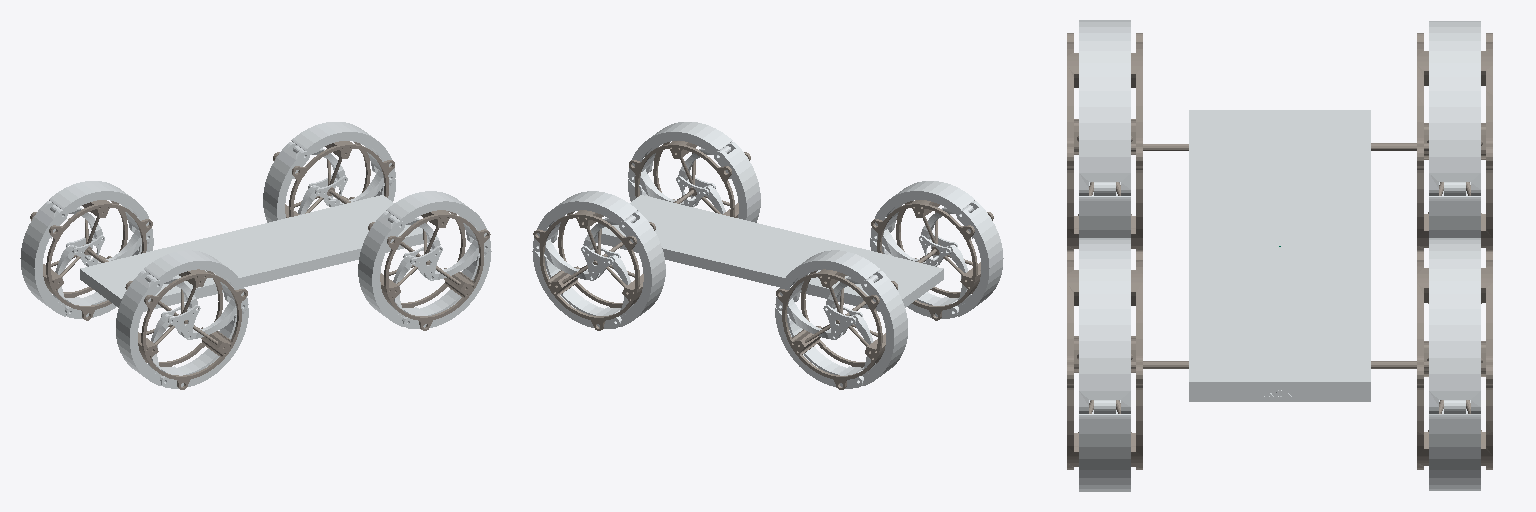
--- Facts derived from the render (not from the file) ---
Views: 3 orthographic renders of the robot side by side, from view 1: azimuth 30°, elevation 25°; view 2: azimuth 150°, elevation 25°; view 3: azimuth 270°, elevation 25°.
Model tryd with 35 links and 34 joints (32 revolute, 2 fixed), rooted at base_footprint, posed every joint at zero.
Links seen in each view (by area): view 1: base_link, l2_rh, l2_rf, l2_lh, l4_rf1, l4_rh1, l4_lh1, l2_lf, l4_lf3, l4_rh3, l4_rf3, l4_lh3 (+8 smaller); view 2: base_link, l2_lf, l2_lh, l2_rh, l4_lf1, l4_rh1, l4_lh1, l2_rf, l4_lh3, l4_rf3, l4_lf3, l4_rh3 (+9 smaller); view 3: base_link, l4_rf3, l4_lf3, l4_rh3, l4_lh3, l2_rf, l2_lf, l2_lh, l2_rh, l4_rf2, l4_lf2, l4_rh2 (+1 smaller).
Boxes of the visible links, x1,y1,x2,y2 form: base_link: (80, 195, 428, 311); l2_rh: (125, 269, 247, 389); l2_rf: (368, 210, 490, 330); l2_lh: (30, 200, 152, 320); l4_rf1: (358, 211, 404, 326); l4_rh1: (116, 270, 162, 385); l4_lh1: (20, 201, 67, 316); l2_lf: (273, 141, 394, 217); l4_lf3: (291, 122, 395, 182); l4_rh3: (144, 250, 248, 310); l4_rf3: (386, 191, 490, 251); l4_lh3: (49, 181, 152, 241); base_link: (595, 195, 943, 311); l2_lf: (533, 210, 655, 330); l2_lh: (776, 269, 897, 389); l2_rh: (871, 200, 993, 320); l4_lf1: (619, 211, 665, 326); l4_rh1: (956, 201, 1003, 316); l4_lh1: (861, 270, 907, 385); l2_rf: (629, 141, 750, 217); l4_lh3: (775, 250, 879, 310); l4_rf3: (628, 122, 732, 182); l4_lf3: (533, 191, 637, 251); l4_rh3: (871, 181, 974, 241); base_link: (1189, 110, 1370, 401); l4_rf3: (1079, 238, 1130, 413); l4_lf3: (1429, 238, 1480, 413); l4_rh3: (1079, 20, 1130, 195); l4_lh3: (1429, 21, 1480, 195); l2_rf: (1067, 251, 1188, 469); l2_lf: (1371, 251, 1492, 469); l2_lh: (1371, 33, 1492, 250); l2_rh: (1067, 33, 1188, 250); l4_rf2: (1079, 414, 1130, 491); l4_lf2: (1429, 414, 1480, 490); l4_rh2: (1079, 196, 1130, 237).
Bounding box of the posed robot: 0.7163 × 0.396 × 0.2362 m (x, y, z).
33 mesh visuals loaded from 33 distinct referenced files (33 binary STL).

robot.urdf — tryd:
<?xml version="1.0" encoding="utf-8"?>
<!-- This URDF was automatically created by SolidWorks to URDF Exporter! Originally created by Stephen Brawner ([email redacted]) 
     Commit Version: 1.6.0-4-g7f85cfe  Build Version: 1.6.7995.38578
     For more information, please see http://wiki.ros.org/sw_urdf_exporter -->
<robot name="tryd">
  <link name="base_footprint"/>

  <link name="base_link">
    <inertial>
      <origin xyz="-8.94907244384436E-06 1.56777004396414E-08 -0.0099999786979822" rpy="0 0 0" />
      <mass value="5.51387120943428" />
      <inertia ixx="0.0134468927294375" ixy="-2.59140603594283E-08" ixz="-3.51546984955843E-08" iyy="0.165475287417608" iyz="-1.62022466077164E-11" izz="0.178554327537039" />
    </inertial>
    <visual>
      <origin xyz="0 0 0" rpy="0 0 0" />
      <geometry>
        <mesh filename="package://tryd/meshes/base_link.STL" />
      </geometry>
      <material name="">
        <color rgba="0.898039215686275 0.917647058823529 0.929411764705882 1" />
      </material>
    </visual>
    <collision>
      <origin xyz="0 0 0" rpy="0 0 0" />
      <geometry>
        <mesh filename="package://tryd/meshes/base_link.STL" />
      </geometry>
    </collision>
  </link>
  <joint name="base_joint" type="fixed">
    <parent link="base_footprint"/>
    <child link="base_link"/>
    <axis xyz="0 0 0"/>
    <origin xyz="0 0 0" rpy="0 0 0"/>
  </joint>
  
  <!-- RTF -->  
  <link name="l2_rf">
    <inertial>
      <origin xyz="-2.08804529222562E-10 -0.0291950635463956 2.32404020325735E-11" rpy="0 0 0" />
      <mass value="0.196608556113688" />
      <inertia ixx="0.000799" ixy="0.000000" ixz="0.000000" iyy="0.001288" iyz="0.000000" izz="0.000799" />
    </inertial>
    <visual>
      <origin xyz="0 0 0" rpy="0 0 0" />
      <geometry>
        <mesh filename="package://tryd/meshes/l2_rf.STL" />
      </geometry>
      <material name="">
        <color rgba="0.650980392156863 0.619607843137255 0.588235294117647 1" />
      </material>
    </visual>
    <collision>
      <origin xyz="0 0 0" rpy="0 0 0" />
      <geometry>
        <mesh filename="package://tryd/meshes/l2_rf.STL" />
      </geometry>
    </collision>
  </link>

  <joint name="j2_rf" type="revolute">
    <origin xyz="0.239999999999999 -0.128 -0.0100000000000003" rpy="0 0 0" />
    <parent link="base_link" />
    <child link="l2_rf" />
    <axis xyz="0 1 0" />
    <limit lower="-50" upper="50" effort="100" velocity="50" />
  </joint>

  <link name="l1_rf">
    <inertial>
      <origin xyz="-4.9960036108132E-16 -0.0161380765502627 -2.57744127660233E-16" rpy="0 0 0" />
      <mass value="0.0354240975198173" />
      <inertia ixx="0.000012" ixy="0.000000" ixz="0.000000" iyy="0.000015" iyz="0.000000" izz="0.000012" />
    </inertial>
    <visual>
      <origin xyz="0 0 0" rpy="0 0 0" />
      <geometry>
        <mesh filename="package://tryd/meshes/l1_rf.STL" />
      </geometry>
      <material name="">
        <color rgba="0.898039215686275 0.917647058823529 0.929411764705882 1" />
      </material>
    </visual>
    <collision>
      <origin xyz="0 0 0" rpy="0 0 0" />
      <geometry>
        <mesh filename="package://tryd/meshes/l1_rf.STL" />
      </geometry>
    </collision>
  </link>
  <joint name="j1_rf" type="revolute">
    <origin xyz="0 -0.021 0" rpy="0 0 0" />
    <parent link="l2_rf" />
    <child link="l1_rf" />
    <axis xyz="0 1 0" />
    <limit lower="-1" upper="1" effort="100" velocity="50" />
  </joint>

  <link name="l3_rf1">
    <inertial>
      <origin xyz="-0.0398905245666624 -0.0140000194157354 0.0482877588732501" rpy="0 0 0" />
      <mass value="0.0557316685279916" />
      <inertia ixx="0.000029" ixy="0.000000" ixz="-0.000032" iyy="0.000071" iyz="0.000000" izz="0.000044" />
    </inertial>
    <visual>
      <origin xyz="0 0 0" rpy="0 0 0" />
      <geometry>
        <mesh filename="package://tryd/meshes/l3_rf1.STL" />
      </geometry>
      <material name="">
        <color rgba="0.898039215686275 0.917647058823529 0.929411764705882 1" />
      </material>
    </visual>
    <collision>
      <origin xyz="0 0 0" rpy="0 0 0" />
      <geometry>
        <mesh filename="package://tryd/meshes/l3_rf1.STL" />
      </geometry>
    </collision>
  </link>
  <joint name="j3_rf1" type="revolute">
    <origin xyz="0.022146669767068 0 0.0202367244935637" rpy="0 0 0" />
    <parent link="l1_rf" />
    <child link="l3_rf1" />
    <axis xyz="0 1 0" />
    <limit lower="-1.57" upper="1.57" effort="5" velocity="2" />
  </joint>

  <link name="l3_rf2">
    <inertial>
      <origin xyz="-0.0218731622438092 -0.0140000036638266 -0.0586901178612239" rpy="0 0 0" />
      <mass value="0.0557315697331534" />
      <inertia ixx="0.000068" ixy="0.000000" ixz="0.000009" iyy="0.000071" iyz="0.000000" izz="0.000006" />
    </inertial>
    <visual>
      <origin xyz="0 0 0" rpy="0 0 0" />
      <geometry>
        <mesh filename="package://tryd/meshes/l3_rf2.STL" />
      </geometry>
      <material name="">
        <color rgba="0.898039215686275 0.917647058823529 0.929411764705882 1" />
      </material>
    </visual>
    <collision>
      <origin xyz="0 0 0" rpy="0 0 0" />
      <geometry>
        <mesh filename="package://tryd/meshes/l3_rf2.STL" />
      </geometry>
    </collision>
  </link>
  <joint name="j3_rf2" type="revolute">
    <origin xyz="-0.0285988523843481 0 0.00906121638072432" rpy="0 0 0" />
    <parent link="l1_rf" />
    <child link="l3_rf2" />
    <axis xyz="0 1 0" />
    <limit lower="-1.57" upper="1.57" effort="5" velocity="2" />
  </joint>
  
  <link name="l3_rf3">
    <inertial>
      <origin xyz="0.0617637116997839 -0.0140000031232566 0.0104023387554542" rpy="0 0 0" />
      <mass value="0.0557315625814883" />
      <inertia ixx="0.000013" ixy="0.000000" ixz="0.000022" iyy="0.000071" iyz="0.000000" izz="0.000061" />
    </inertial>
    <visual>
      <origin xyz="0 0 0" rpy="0 0 0" />
      <geometry>
        <mesh filename="package://tryd/meshes/l3_rf3.STL" />
      </geometry>
      <material name="">
        <color rgba="0.898039215686275 0.917647058823529 0.929411764705882 1" />
      </material>
    </visual>
    <collision>
      <origin xyz="0 0 0" rpy="0 0 0" />
      <geometry>
        <mesh filename="package://tryd/meshes/l3_rf3.STL" />
      </geometry>
    </collision>
  </link>
  <joint name="j3_rf3" type="revolute">
    <origin xyz="0.00645218261727812 0 -0.0292979408742882" rpy="0 0 0" />
    <parent link="l1_rf" />
    <child link="l3_rf3" />
    <axis xyz="0 1 0" />
    <limit lower="-1.57" upper="1.57" effort="5" velocity="2" />
  </joint>

  <link name="l4_rf1">
    <inertial>
      <origin xyz="-0.00925877524108323 -0.0350000059049338 -0.0714258099295615" rpy="0 0 0" />
      <mass value="0.505772953738006" />
      <inertia ixx="0.001678" ixy="0.000000" ixz="-0.000035" iyy="0.001703" iyz="0.000000" izz="0.000215" />
    </inertial>
    <visual>
      <origin xyz="0 0 0" rpy="0 0 0" />
      <geometry>
        <mesh filename="package://tryd/meshes/l4_rf1.STL" />
      </geometry>
      <material name="">
        <color rgba="0.898039215686275 0.917647058823529 0.929411764705882 1" />
      </material>
    </visual>
    <collision>
      <origin xyz="0 0 0" rpy="0 0 0" />
      <geometry>
        <mesh filename="package://tryd/meshes/l4_rf1.STL" />
      </geometry>
    </collision>
  </link>
  <joint name="j4_rf1" type="revolute">
    <origin xyz="-0.0833137378878261 0 0.0687227842797317" rpy="0 0 0" />
    <parent link="l2_rf" />
    <child link="l4_rf1" />
    <axis xyz="0 1 0" />
    <limit lower="-1.57" upper="1.57" effort="5" velocity="2" />
  </joint>

  <link name="l4_rf2">
    <inertial>
      <origin xyz="0.0664859496958133 -0.0350000060684984 0.0276945733610566" rpy="0 0 0" />
      <mass value="0.505772947420474" />
      <inertia ixx="0.000611" ixy="0.000000" ixz="0.000651" iyy="0.001703" iyz="0.000000" izz="0.001282" />
    </inertial>
    <visual>
      <origin xyz="0 0 0" rpy="0 0 0" />
      <geometry>
        <mesh filename="package://tryd/meshes/l4_rf2.STL" />
      </geometry>
      <material name="">
        <color rgba="0.898039215686275 0.917647058823529 0.929411764705882 1" />
      </material>
    </visual>
    <collision>
      <origin xyz="0 0 0" rpy="0 0 0" />
      <geometry>
        <mesh filename="package://tryd/meshes/l4_rf2.STL" />
      </geometry>
    </collision>
  </link>
  <joint name="j4_rf2" type="revolute">
    <origin xyz="-0.0178588080611313 0 -0.106513205634962" rpy="0 0 0" />
    <parent link="l2_rf" />
    <child link="l4_rf2" />
    <axis xyz="0 1 0" />
    <limit lower="-1.57" upper="1.57" effort="5" velocity="2" />
  </joint>

  <link name="l4_rf3">
    <inertial>
      <origin xyz="-0.0572271801527385 -0.0350000060490628 0.0437312355375022" rpy="0 0 0" />
      <mass value="0.505772946196365" />
      <inertia ixx="0.000551" ixy="0.000000" ixz="-0.000616" iyy="0.001703" iyz="0.000000" izz="0.001342" />
    </inertial>
    <visual>
      <origin xyz="0 0 0" rpy="0 0 0" />
      <geometry>
        <mesh filename="package://tryd/meshes/l4_rf3.STL" />
      </geometry>
      <material name="">
        <color rgba="0.898039215686275 0.917647058823529 0.929411764705882 1" />
      </material>
    </visual>
    <collision>
      <origin xyz="0 0 0" rpy="0 0 0" />
      <geometry>
        <mesh filename="package://tryd/meshes/l4_rf3.STL" />
      </geometry>
    </collision>
  </link>
  <joint name="j4_rf3" type="revolute">
    <origin xyz="0.101172545948959 0 0.0377904213552305" rpy="0 0 0" />
    <parent link="l2_rf" />
    <child link="l4_rf3" />
    <axis xyz="0 1 0" />
    <limit lower="-1.57" upper="1.57" effort="5" velocity="2" />
  </joint>

  <!-- LTF --> 
  <link name="l2_lf">
    <inertial>
      <origin xyz="-6.09346184621273E-11 0.0291950636027025 2.85822192691364E-10" rpy="0 0 0" />
      <mass value="0.196608558229839" />
      <inertia ixx="0.000799" ixy="0.000000" ixz="0.000000" iyy="0.001288" iyz="0.000000" izz="0.000799" />
    </inertial>
    <visual>
      <origin xyz="0 0 0" rpy="0 0 0" />
      <geometry>
        <mesh filename="package://tryd/meshes/l2_lf.STL" />
      </geometry>
      <material name="">
        <color rgba="0.650980392156863 0.619607843137255 0.588235294117647 1" />
      </material>
    </visual>
    <collision>
      <origin xyz="0 0 0" rpy="0 0 0" />
      <geometry>
        <mesh filename="package://tryd/meshes/l2_lf.STL" />
      </geometry>
    </collision>
  </link>
  <joint name="j2_lf" type="revolute">
    <origin xyz="0.239999999999999 0.128 -0.0100000000000002" rpy="0 0 0" />
    <parent link="base_link" />
    <child link="l2_lf" />
    <axis xyz="0 1 0" />
    <limit lower="-50" upper="50" effort="100" velocity="50" />
  </joint>

  <link name="l1_lf">
    <inertial>
      <origin xyz="-2.22044604925031E-16 0.0161380765502627 -4.56316275036442E-16" rpy="0 0 0" />
      <mass value="0.0354240975198172" />
      <inertia ixx="0.000012" ixy="0.000000" ixz="0.000000" iyy="0.000015" iyz="0.000000" izz="0.000012" />
    </inertial>
    <visual>
      <origin xyz="0 0 0" rpy="0 0 0" />
      <geometry>
        <mesh filename="package://tryd/meshes/l1_lf.STL" />
      </geometry>
      <material name="">
        <color rgba="0.898039215686275 0.917647058823529 0.929411764705882 1" />
      </material>
    </visual>
    <collision>
      <origin xyz="0 0 0" rpy="0 0 0" />
      <geometry>
        <mesh filename="package://tryd/meshes/l1_lf.STL" />
      </geometry>
    </collision>
  </link>
  <joint name="j1_lf" type="revolute">
    <origin xyz="0 0.021 0" rpy="0 0 0" />
    <parent link="l2_lf" />
    <child link="l1_lf" />
    <axis xyz="0 1 0" />
    <limit lower="-1" upper="1" effort="100" velocity="50" />
  </joint>

  <link name="l3_lf1">
    <inertial>
      <origin xyz="-0.039890520885456 0.0139999805842647 0.0482877619143034" rpy="0 0 0" />
      <mass value="0.0557316685279918" />
      <inertia ixx="0.000029" ixy="0.000000" ixz="-0.000032" iyy="0.000071" iyz="0.000000" izz="0.000044" />
    </inertial>
    <visual>
      <origin xyz="0 0 0" rpy="0 0 0" />
      <geometry>
        <mesh filename="package://tryd/meshes/l3_lf1.STL" />
      </geometry>
      <material name="">
        <color rgba="0.898039215686275 0.917647058823529 0.929411764705882 1" />
      </material>
    </visual>
    <collision>
      <origin xyz="0 0 0" rpy="0 0 0" />
      <geometry>
        <mesh filename="package://tryd/meshes/l3_lf1.STL" />
      </geometry>
    </collision>
  </link>
  <joint name="j3_lf1" type="revolute">
    <origin xyz="0.0221395963706941 0 0.0202444627625115" rpy="0 0 0" />
    <parent link="l1_lf" />
    <child link="l3_lf1" />
    <axis xyz="0 1 0" />
    <limit lower="-1.57" upper="1.57" effort="5" velocity="2" />
  </joint>

  <link name="l3_lf2">
    <inertial>
      <origin xyz="-0.0218731667180357 0.0139999963361724 -0.0586901161937509" rpy="0 0 0" />
      <mass value="0.0557315697331413" />
      <inertia ixx="0.000068" ixy="0.000000" ixz="0.000009" iyy="0.000071" iyz="0.000000" izz="0.000006" />
    </inertial>
    <visual>
      <origin xyz="0 0 0" rpy="0 0 0" />
      <geometry>
        <mesh filename="package://tryd/meshes/l3_lf2.STL" />
      </geometry>
      <material name="">
        <color rgba="0.898039215686275 0.917647058823529 0.929411764705882 1" />
      </material>
    </visual>
    <collision>
      <origin xyz="0 0 0" rpy="0 0 0" />
      <geometry>
        <mesh filename="package://tryd/meshes/l3_lf2.STL" />
      </geometry>
    </collision>
  </link>
  <joint name="j3_lf2" type="revolute">
    <origin xyz="-0.0286020172236509 0 0.00905122150529837" rpy="0 0 0" />
    <parent link="l1_lf" />
    <child link="l3_lf2" />
    <axis xyz="0 1 0" />
    <limit lower="-1.57" upper="1.57" effort="5" velocity="2" />
  </joint>

  <link name="l3_lf3">
    <inertial>
      <origin xyz="0.0617637124928111 0.0139999968767433 0.0104023340469134" rpy="0 0 0" />
      <mass value="0.0557315625814885" />
      <inertia ixx="0.000013" ixy="0.000000" ixz="0.000022" iyy="0.000071" iyz="0.000000" izz="0.000061" />
    </inertial>
    <visual>
      <origin xyz="0 0 0" rpy="0 0 0" />
      <geometry>
        <mesh filename="package://tryd/meshes/l3_lf3.STL" />
      </geometry>
      <material name="">
        <color rgba="0.898039215686275 0.917647058823529 0.929411764705882 1" />
      </material>
    </visual>
    <collision>
      <origin xyz="0 0 0" rpy="0 0 0" />
      <geometry>
        <mesh filename="package://tryd/meshes/l3_lf3.STL" />
      </geometry>
    </collision>
  </link>
  <joint name="j3_lf3" type="revolute">
    <origin xyz="0.00646242085295634 0 -0.0292956842678118" rpy="0 0 0" />
    <parent link="l1_lf" />
    <child link="l3_lf3" />
    <axis xyz="0 1 0" />
    <limit lower="-1.57" upper="1.57" effort="5" velocity="2" />
  </joint>

  <link name="l4_lf1">
    <inertial>
      <origin xyz="-0.00923381104475832 0.034999994095162 -0.0714290415484533" rpy="0 0 0" />
      <mass value="0.505772953745336" />
      <inertia ixx="0.001678" ixy="0.000000" ixz="-0.000035" iyy="0.001703" iyz="0.000000" izz="0.000215" />
    </inertial>
    <visual>
      <origin xyz="0 0 0" rpy="0 0 0" />
      <geometry>
        <mesh filename="package://tryd/meshes/l4_lf1.STL" />
      </geometry>
      <material name="">
        <color rgba="0.898039215686275 0.917647058823529 0.929411764705882 1" />
      </material>
    </visual>
    <collision>
      <origin xyz="0 0 0" rpy="0 0 0" />
      <geometry>
        <mesh filename="package://tryd/meshes/l4_lf1.STL" />
      </geometry>
    </collision>
  </link>
  <joint name="j4_lf1" type="revolute">
    <origin xyz="-0.0833137378878259 0 0.068722784279732" rpy="0 0 0" />
    <parent link="l2_lf" />
    <child link="l4_lf1" />
    <axis xyz="0 1 0" />
    <limit lower="-1.57" upper="1.57" effort="5" velocity="2" />
  </joint>
  
  <link name="l4_lf2">
    <inertial>
      <origin xyz="0.0664762662590837 0.0349999939314377 0.0277178088028784" rpy="0 0 0" />
      <mass value="0.505772947416741" />
      <inertia ixx="0.000611" ixy="0.000000" ixz="0.000651" iyy="0.001703" iyz="0.000000" izz="0.001282" />
    </inertial>
    <visual>
      <origin xyz="0 0 0" rpy="0 0 0" />
      <geometry>
        <mesh filename="package://tryd/meshes/l4_lf2.STL" />
      </geometry>
      <material name="">
        <color rgba="0.898039215686275 0.917647058823529 0.929411764705882 1" />
      </material>
    </visual>
    <collision>
      <origin xyz="0 0 0" rpy="0 0 0" />
      <geometry>
        <mesh filename="package://tryd/meshes/l4_lf2.STL" />
      </geometry>
    </collision>
  </link>
  <joint name="j4_lf2" type="revolute">
    <origin xyz="-0.0178588080611317 0 -0.106513205634961" rpy="0 0 0" />
    <parent link="l2_lf" />
    <child link="l4_lf2" />
    <axis xyz="0 1 0" />
    <limit lower="-1.57" upper="1.57" effort="5" velocity="2" />
  </joint>

  <link name="l4_lf3">
    <inertial>
      <origin xyz="-0.0572424609164388 0.0349999939510116 0.0437112317178428" rpy="0 0 0" />
      <mass value="0.505772946198787" />
      <inertia ixx="0.000551" ixy="0.000000" ixz="-0.000616" iyy="0.001703" iyz="0.000000" izz="0.001342" />
    </inertial>
    <visual>
      <origin xyz="0 0 0" rpy="0 0 0" />
      <geometry>
        <mesh filename="package://tryd/meshes/l4_lf3.STL" />
      </geometry>
      <material name="">
        <color rgba="0.898039215686275 0.917647058823529 0.929411764705882 1" />
      </material>
    </visual>
    <collision>
      <origin xyz="0 0 0" rpy="0 0 0" />
      <geometry>
        <mesh filename="package://tryd/meshes/l4_lf3.STL" />
      </geometry>
    </collision>
  </link>
  <joint name="j4_lf3" type="revolute">
    <origin xyz="0.101172545948959 0 0.0377904213552303" rpy="0 0 0" />
    <parent link="l2_lf" />
    <child link="l4_lf3" />
    <axis xyz="0 1 0" />
    <limit lower="-1.57" upper="1.57" effort="5" velocity="2" />
  </joint>

  <!-- RTH --> 
  <link name="l2_rh">
    <inertial>
      <origin xyz="-3.36830535685451E-10 -0.0291950635763487 4.28708644196799E-11" rpy="0 0 0" />
      <mass value="0.196608557895127" />
      <inertia ixx="0.000799" ixy="0.000000" ixz="0.000000" iyy="0.001288" iyz="0.000000" izz="0.000799" />
    </inertial>
    <visual>
      <origin xyz="0 0 0" rpy="0 0 0" />
      <geometry>
        <mesh filename="package://tryd/meshes/l2_rh.STL" />
      </geometry>
      <material name="">
        <color rgba="0.650980392156863 0.619607843137255 0.588235294117647 1" />
      </material>
    </visual>
    <collision>
      <origin xyz="0 0 0" rpy="0 0 0" />
      <geometry>
        <mesh filename="package://tryd/meshes/l2_rh.STL" />
      </geometry>
    </collision>
  </link>
  <joint name="j2_rh" type="revolute">
    <origin xyz="-0.24 -0.128 -0.0100000000000005" rpy="0 0 0" />
    <parent link="base_link" />
    <child link="l2_rh" />
    <axis xyz="0 1 0" />
    <limit lower="-50" upper="50" effort="100" velocity="50" />
  </joint>

  <link name="l1_rh">
    <inertial>
      <origin xyz="3.33066907387547E-16 -0.0161380765502627 -2.59802701229211E-16" rpy="0 0 0" />
      <mass value="0.0354240975198172" />
      <inertia ixx="0.000012" ixy="0.000000" ixz="0.000000" iyy="0.000015" iyz="0.000000" izz="0.000012" />
    </inertial>
    <visual>
      <origin xyz="0 0 0" rpy="0 0 0" />
      <geometry>
        <mesh filename="package://tryd/meshes/l1_rh.STL" />
      </geometry>
      <material name="">
        <color rgba="0.898039215686275 0.917647058823529 0.929411764705882 1" />
      </material>
    </visual>
    <collision>
      <origin xyz="0 0 0" rpy="0 0 0" />
      <geometry>
        <mesh filename="package://tryd/meshes/l1_rh.STL" />
      </geometry>
    </collision>
  </link>
  <joint name="j1_rh" type="revolute">
    <origin xyz="0 -0.021 0" rpy="0 0 0" />
    <parent link="l2_rh" />
    <child link="l1_rh" />
    <axis xyz="0 1 0" />
    <limit lower="-1" upper="1" effort="100" velocity="50" />
  </joint>

  <link name="l3_rh1">
    <inertial>
      <origin xyz="-0.0398905245666619 -0.0140000194157354 0.0482877588732504" rpy="0 0 0" />
      <mass value="0.0557316685279918" />
      <inertia ixx="0.000029" ixy="0.000000" ixz="-0.000032" iyy="0.000071" iyz="0.000000" izz="0.000044" />
    </inertial>
    <visual>
      <origin xyz="0 0 0" rpy="0 0 0" />
      <geometry>
        <mesh filename="package://tryd/meshes/l3_rh1.STL" />
      </geometry>
      <material name="">
        <color rgba="0.898039215686275 0.917647058823529 0.929411764705882 1" />
      </material>
    </visual>
    <collision>
      <origin xyz="0 0 0" rpy="0 0 0" />
      <geometry>
        <mesh filename="package://tryd/meshes/l3_rh1.STL" />
      </geometry>
    </collision>
  </link>
  <joint name="j3_rh1" type="revolute">
    <origin xyz="0.0221466697670692 0 0.0202367244935632" rpy="0 0 0" />
    <parent link="l1_rh" />
    <child link="l3_rh1" />
    <axis xyz="0 1 0" />
    <limit lower="-1.57" upper="1.57" effort="5" velocity="2" />
  </joint>

  <link name="l3_rh2">
    <inertial>
      <origin xyz="-0.0218731622438033 -0.0140000036638276 -0.0586901178612386" rpy="0 0 0" />
      <mass value="0.0557315697331424" />
      <inertia ixx="0.000068" ixy="0.000000" ixz="0.000009" iyy="0.000071" iyz="0.000000" izz="0.000006" />
    </inertial>
    <visual>
      <origin xyz="0 0 0" rpy="0 0 0" />
      <geometry>
        <mesh filename="package://tryd/meshes/l3_rh2.STL" />
      </geometry>
      <material name="">
        <color rgba="0.898039215686275 0.917647058823529 0.929411764705882 1" />
      </material>
    </visual>
    <collision>
      <origin xyz="0 0 0" rpy="0 0 0" />
      <geometry>
        <mesh filename="package://tryd/meshes/l3_rh2.STL" />
      </geometry>
    </collision>
  </link>
  <joint name="j3_rh2" type="revolute">
    <origin xyz="-0.0285988523843469 0 0.00906121638072405" rpy="0 0 0" />
    <parent link="l1_rh" />
    <child link="l3_rh2" />
    <axis xyz="0 1 0" />
    <limit lower="-1.57" upper="1.57" effort="5" velocity="2" />
  </joint>

  <link name="l3_rh3">
    <inertial>
      <origin xyz="0.0617637116997811 -0.0140000031232566 0.0104023387554438" rpy="0 0 0" />
      <mass value="0.0557315625814886" />
      <inertia ixx="0.000013" ixy="0.000000" ixz="0.000022" iyy="0.000071" iyz="0.000000" izz="0.000061" />
    </inertial>
    <visual>
      <origin xyz="0 0 0" rpy="0 0 0" />
      <geometry>
        <mesh filename="package://tryd/meshes/l3_rh3.STL" />
      </geometry>
      <material name="">
        <color rgba="0.898039215686275 0.917647058823529 0.929411764705882 1" />
      </material>
    </visual>
    <collision>
      <origin xyz="0 0 0" rpy="0 0 0" />
      <geometry>
        <mesh filename="package://tryd/meshes/l3_rh3.STL" />
      </geometry>
    </collision>
  </link>
  <joint name="j3_rh3" type="revolute">
    <origin xyz="0.00645218261727887 0 -0.0292979408742888" rpy="0 0 0" />
    <parent link="l1_rh" />
    <child link="l3_rh3" />
    <axis xyz="0 1 0" />
    <limit lower="-1.57" upper="1.57" effort="5" velocity="2" />
  </joint>

  <link name="l4_rh1">
    <inertial>
      <origin xyz="-0.00925877524108371 -0.0350000059049338 -0.0714258099295591" rpy="0 0 0" />
      <mass value="0.505772953738004" />
      <inertia ixx="0.001678" ixy="0.000000" ixz="-0.000035" iyy="0.001703" iyz="0.000000" izz="0.000215" />
    </inertial>
    <visual>
      <origin xyz="0 0 0" rpy="0 0 0" />
      <geometry>
        <mesh filename="package://tryd/meshes/l4_rh1.STL" />
      </geometry>
      <material name="">
        <color rgba="0.898039215686275 0.917647058823529 0.929411764705882 1" />
      </material>
    </visual>
    <collision>
      <origin xyz="0 0 0" rpy="0 0 0" />
      <geometry>
        <mesh filename="package://tryd/meshes/l4_rh1.STL" />
      </geometry>
    </collision>
  </link>
  <joint name="j4_rh1" type="revolute">
    <origin xyz="-0.0833137378878267 0 0.0687227842797326" rpy="0 0 0" />
    <parent link="l2_rh" />
    <child link="l4_rh1" />
    <axis xyz="0 1 0" />
    <limit lower="-1.57" upper="1.57" effort="5" velocity="2" />
  </joint>

  <link name="l4_rh2">
    <inertial>
      <origin xyz="0.0664859496958403 -0.0350000060684984 0.0276945733610724" rpy="0 0 0" />
      <mass value="0.505772947420472" />
      <inertia ixx="0.000611" ixy="0.000000" ixz="0.000651" iyy="0.001703" iyz="0.000000" izz="0.001282" />
    </inertial>
    <visual>
      <origin xyz="0 0 0" rpy="0 0 0" />
      <geometry>
        <mesh filename="package://tryd/meshes/l4_rh2.STL" />
      </geometry>
      <material name="">
        <color rgba="0.898039215686275 0.917647058823529 0.929411764705882 1" />
      </material>
    </visual>
    <collision>
      <origin xyz="0 0 0" rpy="0 0 0" />
      <geometry>
        <mesh filename="package://tryd/meshes/l4_rh2.STL" />
      </geometry>
    </collision>
  </link>
  <joint name="j4_rh2" type="revolute">
    <origin xyz="-0.0178588080611333 0 -0.106513205634961" rpy="0 0 0" />
    <parent link="l2_rh" />
    <child link="l4_rh2" />
    <axis xyz="0 1 0" />
    <limit lower="-1.57" upper="1.57" effort="5" velocity="2" />
  </joint>

  <link name="l4_rh3">
    <inertial>
      <origin xyz="-0.0572271801527114 -0.0350000060490628 0.0437312355374892" rpy="0 0 0" />
      <mass value="0.505772946196363" />
      <inertia ixx="0.000551" ixy="0.000000" ixz="-0.000616" iyy="0.001703" iyz="0.000000" izz="0.001342" />
    </inertial>
    <visual>
      <origin xyz="0 0 0" rpy="0 0 0" />
      <geometry>
        <mesh filename="package://tryd/meshes/l4_rh3.STL" />
      </geometry>
      <material name="">
        <color rgba="0.898039215686275 0.917647058823529 0.929411764705882 1" />
      </material>
    </visual>
    <collision>
      <origin xyz="0 0 0" rpy="0 0 0" />
      <geometry>
        <mesh filename="package://tryd/meshes/l4_rh3.STL" />
      </geometry>
    </collision>
  </link>
  <joint name="j4_rh3" type="revolute">
    <origin xyz="0.101172545948958 0 0.03779042135523" rpy="0 0 0" />
    <parent link="l2_rh" />
    <child link="l4_rh3" />
    <axis xyz="0 1 0" />
    <limit lower="-1.57" upper="1.57" effort="5" velocity="2" />
  </joint>

  <!-- LTH --> 
  <link name="l2_lh">
    <inertial>
      <origin xyz="-6.25409724008819E-11 0.0291950635841788 3.76880211515852E-10" rpy="0 0 0" />
      <mass value="0.196608558024231" />
      <inertia ixx="0.000799" ixy="0.000000" ixz="0.000000" iyy="0.001288" iyz="0.000000" izz="0.000799" />
    </inertial>
    <visual>
      <origin xyz="0 0 0" rpy="0 0 0" />
      <geometry>
        <mesh filename="package://tryd/meshes/l2_lh.STL" />
      </geometry>
      <material name="">
        <color rgba="0.650980392156863 0.619607843137255 0.588235294117647 1" />
      </material>
    </visual>
    <collision>
      <origin xyz="0 0 0" rpy="0 0 0" />
      <geometry>
        <mesh filename="package://tryd/meshes/l2_lh.STL" />
      </geometry>
    </collision>
  </link>
  <joint name="j2_lh" type="revolute">
    <origin xyz="-0.239999999999999 0.128 -0.0100000000000004" rpy="0 0 0" />
    <parent link="base_link" />
    <child link="l2_lh" />
    <axis xyz="0 1 0" />
    <limit lower="-50" upper="50" effort="100" velocity="50" />
  </joint>

  <link name="l1_lh">
    <inertial>
      <origin xyz="4.44089209850063E-16 0.0161380765502627 -4.43160424709541E-17" rpy="0 0 0" />
      <mass value="0.0354240975198174" />
      <inertia ixx="0.000012" ixy="0.000000" ixz="0.000000" iyy="0.000015" iyz="0.000000" izz="0.000012" />
    </inertial>
    <visual>
      <origin xyz="0 0 0" rpy="0 0 0" />
      <geometry>
        <mesh filename="package://tryd/meshes/l1_lh.STL" />
      </geometry>
      <material name="">
        <color rgba="0.898039215686275 0.917647058823529 0.929411764705882 1" />
      </material>
    </visual>
    <collision>
      <origin xyz="0 0 0" rpy="0 0 0" />
      <geometry>
        <mesh filename="package://tryd/meshes/l1_lh.STL" />
      </geometry>
    </collision>
  </link>
  <joint name="j1_lh" type="revolute">
    <origin xyz="0 0.021 0" rpy="0 0 0" />
    <parent link="l2_lh" />
    <child link="l1_lh" />
    <axis xyz="0 1 0" />
    <limit lower="-1" upper="1" effort="100" velocity="50" />
  </joint>

  <link name="l3_lh1">
    <inertial>
      <origin xyz="-0.0398905208854606 0.0139999805842646 0.0482877619143024" rpy="0 0 0" />
      <mass value="0.0557316685279916" />
      <inertia ixx="0.000029" ixy="0.000000" ixz="-0.000032" iyy="0.000071" iyz="0.000000" izz="0.000044" />
    </inertial>
    <visual>
      <origin xyz="0 0 0" rpy="0 0 0" />
      <geometry>
        <mesh filename="package://tryd/meshes/l3_lh1.STL" />
      </geometry>
      <material name="">
        <color rgba="0.898039215686275 0.917647058823529 0.929411764705882 1" />
      </material>
    </visual>
    <collision>
      <origin xyz="0 0 0" rpy="0 0 0" />
      <geometry>
        <mesh filename="package://tryd/meshes/l3_lh1.STL" />
      </geometry>
    </collision>
  </link>
  <joint name="j3_lh3" type="revolute">
    <origin xyz="0.0221395963706951 0 0.0202444627625122" rpy="0 0 0" />
    <parent link="l1_lh" />
    <child link="l3_lh1" />
    <axis xyz="0 1 0" />
    <limit lower="-1.57" upper="1.57" effort="5" velocity="2" />
  </joint>

  <link name="l3_lh2">
    <inertial>
      <origin xyz="-0.0218731667180396 0.0139999963361724 -0.0586901161937471" rpy="0 0 0" />
      <mass value="0.0557315697331413" />
      <inertia ixx="0.000068" ixy="0.000000" ixz="0.000009" iyy="0.000071" iyz="0.000000" izz="0.000006" />
    </inertial>
    <visual>
      <origin xyz="0 0 0" rpy="0 0 0" />
      <geometry>
        <mesh filename="package://tryd/meshes/l3_lh2.STL" />
      </geometry>
      <material name="">
        <color rgba="0.898039215686275 0.917647058823529 0.929411764705882 1" />
      </material>
    </visual>
    <collision>
      <origin xyz="0 0 0" rpy="0 0 0" />
      <geometry>
        <mesh filename="package://tryd/meshes/l3_lh2.STL" />
      </geometry>
    </collision>
  </link>
  <joint name="j3_lh2" type="revolute">
    <origin xyz="-0.02860201722365 0 0.00905122150529934" rpy="0 0 0" />
    <parent link="l1_lh" />
    <child link="l3_lh2" />
    <axis xyz="0 1 0" />
    <limit lower="-1.57" upper="1.57" effort="5" velocity="2" />
  </joint>

  <link name="l3_lh3">
    <inertial>
      <origin xyz="0.0617637124928112 0.0139999968767434 0.0104023340469128" rpy="0 0 0" />
      <mass value="0.0557315625814885" />
      <inertia ixx="0.000013" ixy="0.000000" ixz="0.000022" iyy="0.000071" iyz="0.000000" izz="0.000061" />
    </inertial>
    <visual>
      <origin xyz="0 0 0" rpy="0 0 0" />
      <geometry>
        <mesh filename="package://tryd/meshes/l3_lh3.STL" />
      </geometry>
      <material name="">
        <color rgba="0.898039215686275 0.917647058823529 0.929411764705882 1" />
      </material>
    </visual>
    <collision>
      <origin xyz="0 0 0" rpy="0 0 0" />
      <geometry>
        <mesh filename="package://tryd/meshes/l3_lh3.STL" />
      </geometry>
    </collision>
  </link>
  <joint name="j3_lh1" type="revolute">
    <origin xyz="0.00646242085295679 0 -0.0292956842678109" rpy="0 0 0" />
    <parent link="l1_lh" />
    <child link="l3_lh3" />
    <axis xyz="0 1 0" />
    <limit lower="-1.57" upper="1.57" effort="5" velocity="2" />
  </joint>

  <link name="l4_lh1">
    <inertial>
      <origin xyz="-0.00923381104475846 0.0349999940951619 -0.0714290415484631" rpy="0 0 0" />
      <mass value="0.505772953745337" />
      <inertia ixx="0.001678" ixy="0.000000" ixz="-0.000035" iyy="0.001703" iyz="0.000000" izz="0.000215" />
    </inertial>
    <visual>
      <origin xyz="0 0 0" rpy="0 0 0" />
      <geometry>
        <mesh filename="package://tryd/meshes/l4_lh1.STL" />
      </geometry>
      <material name="">
        <color rgba="0.898039215686275 0.917647058823529 0.929411764705882 1" />
      </material>
    </visual>
    <collision>
      <origin xyz="0 0 0" rpy="0 0 0" />
      <geometry>
        <mesh filename="package://tryd/meshes/l4_lh1.STL" />
      </geometry>
    </collision>
  </link>
  <joint name="j4_lh1" type="revolute">
    <origin xyz="-0.0833137378878265 0 0.0687227842797328" rpy="0 0 0" />
    <parent link="l2_lh" />
    <child link="l4_lh1" />
    <axis xyz="0 1 0" />
    <limit lower="-1.57" upper="1.57" effort="5" velocity="2" />
  </joint>

  <link name="l4_lh2">
    <inertial>
      <origin xyz="0.0664762662590742 0.0349999939314377 0.0277178088028722" rpy="0 0 0" />
      <mass value="0.50577294741674" />
      <inertia ixx="0.000611" ixy="0.000000" ixz="0.000651" iyy="0.001703" iyz="0.000000" izz="0.001282" />
    </inertial>
    <visual>
      <origin xyz="0 0 0" rpy="0 0 0" />
      <geometry>
        <mesh filename="package://tryd/meshes/l4_lh2.STL" />
      </geometry>
      <material name="">
        <color rgba="0.898039215686275 0.917647058823529 0.929411764705882 1" />
      </material>
    </visual>
    <collision>
      <origin xyz="0 0 0" rpy="0 0 0" />
      <geometry>
        <mesh filename="package://tryd/meshes/l4_lh2.STL" />
      </geometry>
    </collision>
  </link>
  <joint name="j4_lh2" type="revolute">
    <origin xyz="-0.0178588080611337 0 -0.106513205634961" rpy="0 0 0" />
    <parent link="l2_lh" />
    <child link="l4_lh2" />
    <axis xyz="0 1 0" />
    <limit lower="-1.57" upper="1.57" effort="5" velocity="2" />
  </joint>

  <link name="l4_lh3">
    <inertial>
      <origin xyz="-0.0572424609164394 0.0349999939510118 0.0437112317178444" rpy="0 0 0" />
      <mass value="0.505772946198786" />
      <inertia ixx="0.000551" ixy="0.000000" ixz="-0.000616" iyy="0.001703" iyz="0.000000" izz="0.001342" />
    </inertial>
    <visual>
      <origin xyz="0 0 0" rpy="0 0 0" />
      <geometry>
        <mesh filename="package://tryd/meshes/l4_lh3.STL" />
      </geometry>
      <material name="">
        <color rgba="0.898039215686275 0.917647058823529 0.929411764705882 1" />
      </material>
    </visual>
    <collision>
      <origin xyz="0 0 0" rpy="0 0 0" />
      <geometry>
        <mesh filename="package://tryd/meshes/l4_lh3.STL" />
      </geometry>
    </collision>
  </link>
  <joint name="j4_lh3" type="revolute">
    <origin xyz="0.101172545948959 0 0.0377904213552296" rpy="0 0 0" />
    <parent link="l2_lh" />
    <child link="l4_lh3" />
    <axis xyz="0 1 0" />
    <limit lower="-1.57" upper="1.57" effort="5" velocity="2" />
  </joint>
  <!-- <joint name='j41_jh3' type='revolute'>
    <origin xyz="0.100052545948959 0 0.0504213552296" rpy="0 0 0" />
    <parent link="l3_lh3" />
    <child link="l4_lh3" />
    <axis xyz="0 1 0" />
    <limit lower="-1.57" upper="1.57" effort="5" velocity="2" />
  </joint> -->
  <!-- Pegasus gazebo plugin -->



  <!-- rtf -->
  <gazebo reference="l4_rf1">
    <mu1>0.6</mu1>
    <mu2>0.6</mu2>
    <self_collide>1</self_collide>
    <material>Gazebo/White</material>
    <kp value="1000000"/>
    <kd value="10.0"/>
  </gazebo>
  <gazebo reference="l4_rf2">
    <mu1>0.6</mu1>
    <mu2>0.6</mu2>
    <self_collide>1</self_collide>
    <material>Gazebo/White</material>
    <kp value="1000000"/>
    <kd value="10.0"/>
  </gazebo>
  <gazebo reference="l4_rf3">
    <mu1>0.6</mu1>
    <mu2>0.6</mu2>
    <self_collide>1</self_collide>
    <material>Gazebo/White</material>
    <kp value="1000000"/>
    <kd value="10.0"/>
  </gazebo>
  <gazebo reference="l3_rf1">
    <mu1>0.1</mu1>
    <mu2>0.1</mu2>
    <self_collide>1</self_collide>
    <material>Gazebo/Grey</material>
  </gazebo>
  <gazebo reference="l3_rf2">
    <mu1>0.1</mu1>
    <mu2>0.1</mu2>
    <self_collide>1</self_collide>
    <material>Gazebo/Grey</material>
  </gazebo>
  <gazebo reference="l3_rf3">
    <mu1>0.1</mu1>
    <mu2>0.1</mu2>
    <self_collide>1</self_collide>
    <material>Gazebo/Grey</material>
  </gazebo> 
  <gazebo reference="l2_rf">
    <mu1>0.6</mu1>
    <mu2>0.6</mu2>
    <self_collide>1</self_collide>
    <material>Gazebo/White</material>
    <kp value="1000000"/>
    <kd value="10.0"/>
  </gazebo>
  <gazebo reference="l1_rf">
    <mu1>0.1</mu1>
    <mu2>0.1</mu2>
    <self_collide>1</self_collide>
    <material>Gazebo/Grey</material>
  </gazebo>

  <!-- ltf -->
  <gazebo reference="l4_lf1">
    <mu1>0.6</mu1>
    <mu2>0.6</mu2>
    <self_collide>1</self_collide>
    <material>Gazebo/White</material>
    <kp value="1000000"/>
    <kd value="10.0"/>
  </gazebo>
  <gazebo reference="l4_lf2">
    <mu1>0.6</mu1>
    <mu2>0.6</mu2>
    <self_collide>1</self_collide>
    <material>Gazebo/White</material>
    <kp value="1000000"/>
    <kd value="10.0"/>
  </gazebo>
  <gazebo reference="l4_lf3">
    <mu1>0.6</mu1>
    <mu2>0.6</mu2>
    <self_collide>1</self_collide>
    <material>Gazebo/White</material>
    <kp value="1000000"/>
    <kd value="10.0"/>
  </gazebo>
  <gazebo reference="l3_lf1">
    <mu1>0.1</mu1>
    <mu2>0.1</mu2>
    <self_collide>1</self_collide>
    <material>Gazebo/Grey</material>
  </gazebo>
  <gazebo reference="l3_lf2">
    <mu1>0.1</mu1>
    <mu2>0.1</mu2>
    <self_collide>1</self_collide>
    <material>Gazebo/Grey</material>
  </gazebo>
  <gazebo reference="l3_lf3">
    <mu1>0.1</mu1>
    <mu2>0.1</mu2>
    <self_collide>1</self_collide>
    <material>Gazebo/Grey</material>
  </gazebo>
  <gazebo reference="l2_lf">
    <mu1>0.6</mu1>
    <mu2>0.6</mu2>
    <self_collide>1</self_collide>
    <material>Gazebo/White</material>
    <kp value="1000000"/>
    <kd value="10.0"/>  
  </gazebo>
  <gazebo reference="l1_lf">
    <mu1>0.1</mu1>
    <mu2>0.1</mu2>
    <self_collide>1</self_collide>
    <material>Gazebo/Grey</material>
  </gazebo>

  <!-- rth -->
  <gazebo reference="l4_rh1">
    <mu1>0.6</mu1>
    <mu2>0.6</mu2>
    <self_collide>1</self_collide>
    <material>Gazebo/White</material>
    <kp value="1000000"/>
    <kd value="10.0"/>
  </gazebo>
  <gazebo reference="l4_rh2">
    <mu1>0.6</mu1>
    <mu2>0.6</mu2>
    <self_collide>1</self_collide>
    <material>Gazebo/White</material>
    <kp value="1000000"/>
    <kd value="10.0"/>
  </gazebo>
  <gazebo reference="l4_rh3">
    <mu1>0.6</mu1>
    <mu2>0.6</mu2>
    <self_collide>1</self_collide>
    <material>Gazebo/White</material>
    <kp value="1000000"/>
    <kd value="10.0"/>
  </gazebo>
  <gazebo reference="l3_rh1">
    <mu1>0.1</mu1>
    <mu2>0.1</mu2>
    <self_collide>1</self_collide>
    <material>Gazebo/Grey</material>
  </gazebo>
  <gazebo reference="l3_rh2">
    <mu1>0.1</mu1>
    <mu2>0.1</mu2>
    <self_collide>1</self_collide>
    <material>Gazebo/Grey</material>
  </gazebo>
  <gazebo reference="l3_rh3">
    <mu1>0.1</mu1>
    <mu2>0.1</mu2>
    <self_collide>1</self_collide>
    <material>Gazebo/Grey</material> 
  </gazebo>
  <gazebo reference="l2_rh">
    <mu1>0.6</mu1>
    <mu2>0.6</mu2>
    <self_collide>1</self_collide>
    <material>Gazebo/White</material>
    <kp value="1000000"/>
    <kd value="10.0"/>                
  </gazebo>
  <gazebo reference="l1_rh">
    <mu1>0.1</mu1>
    <mu2>0.1</mu2>
    <self_collide>1</self_collide>
    <material>Gazebo/Grey</material>
  </gazebo>

  <!-- lth -->
  <gazebo reference="l4_lh1">
    <mu1>0.6</mu1>
    <mu2>0.6</mu2>
    <self_collide>1</self_collide>
    <material>Gazebo/White</material>
    <kp value="1000000"/>
    <kd value="10.0"/>
  </gazebo>
  <gazebo reference="l4_lh2">
    <mu1>0.6</mu1>
    <mu2>0.6</mu2>
    <self_collide>1</self_collide>
    <material>Gazebo/White</material>
    <kp value="1000000"/>
    <kd value="10.0"/>
  </gazebo>
  <gazebo reference="l4_lh3">
    <mu1>0.6</mu1>
    <mu2>0.6</mu2>
    <self_collide>1</self_collide>
    <material>Gazebo/White</material>
    <kp value="1000000"/>
    <kd value="10.0"/>
  </gazebo>
  <gazebo reference="l3_lh1">
    <mu1>0.1</mu1>
    <mu2>0.1</mu2>
    <self_collide>1</self_collide>
    <material>Gazebo/Grey</material>
  </gazebo>
  <gazebo reference="l3_lh2">
    <mu1>0.1</mu1>
    <mu2>0.1</mu2>
    <self_collide>1</self_collide>
    <material>Gazebo/Grey</material>
  </gazebo>
  <gazebo reference="l3_lh3">
    <mu1>0.1</mu1>
    <mu2>0.1</mu2>
    <self_collide>1</self_collide>
    <material>Gazebo/Grey</material>
  </gazebo>
  <gazebo reference="l2_lh">
    <mu1>0.6</mu1>
    <mu2>0.6</mu2>
    <self_collide>1</self_collide>
    <material>Gazebo/White</material>
    <kp value="1000000"/>
    <kd value="10.0"/>
  </gazebo>
  <gazebo reference="l1_lh">
    <mu1>0.1</mu1>
    <mu2>0.1</mu2>
    <self_collide>1</self_collide>
    <material>Gazebo/Grey</material>
  </gazebo> 
  
  <!-- IMU -->
  <joint name="imu_joint" type="fixed">
    <parent link="base_link"/>
    <child link="imu_link"/>
    <origin rpy="0 0 0" xyz="0 0 0"/>
  </joint>

  <link name="imu_link">
    <inertial>
      <mass value="0.001"/>
      <origin rpy="0 0 0" xyz="0 0 0"/>
      <inertia ixx="0.0001" ixy="0" ixz="0" iyy="0.0001" iyz="0" izz="0.0001"/>
    </inertial>
    <visual>
      <origin rpy="0 0 0" xyz="0 0 0"/>
      <geometry>
        <box size="0.001 0.001 0.001"/>
      </geometry>
      <material name=""/>
    </visual>
    <collision>
      <origin rpy="0 0 0" xyz="0 0 0"/>
      <geometry>
        <box size="0.001 0.001 0.001"/>
      </geometry>
    </collision>
  </link>
  
  <!-- imu sensor -->
  <gazebo reference="imu_link">
    <sensor name="imu" type="imu">
      <always_on>1</always_on>
      <update_rate>200</update_rate>
      <visualize>true</visualize>
      <topic>imu</topic>
      <enable_metrics>true</enable_metrics>
      <gz_frame_id>imu_link</gz_frame_id>
    </sensor>
  </gazebo>
<!-- <gazebo>
  <plugin name="differential_drive_controller" filename="libgazebo_ros_diff_drive.so">
    <updateRate> 50 </updateRate>
  
    <rightJoint>l2_lf</rightJoint>
    <leftJoint>l2_lf</leftJoint>
   


    <wheelSeparation>0.256</wheelSeparation>
    <wheelDiameter>0.118</wheelDiameter>
    <wheelAcceleration>1.0</wheelAcceleration>
    <wheelTorque>20</wheelTorque>
    <commandTopic>cmd_vel</commandTopic>
    <odometryTopic>odom</odometryTopic>
    <odometryFrame>odom</odometryFrame>
    <robotBaseFrame>base_footprint</robotBaseFrame>
    <odometrySource>1</odometrySource>
    <publishWheelTF>true</publishWheelTF>
    <publishOdom>true</publishOdom>
    <publishWheelJointState>true</publishWheelJointState>
    <legacyMode>false</legacyMode>
  </plugin>
</gazebo> -->

</robot>
